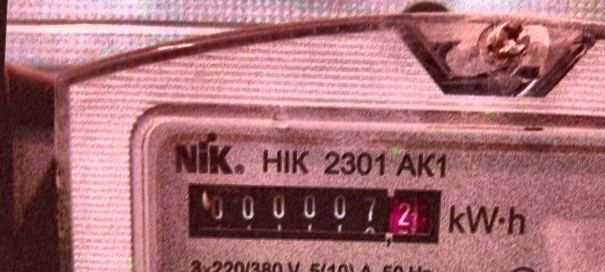0: (268, 192, 287, 220), (238, 192, 256, 221), (207, 193, 225, 221), (330, 192, 347, 220), (300, 191, 316, 219)
2: (394, 199, 412, 228)
7: (360, 194, 377, 224)
screen: (176, 170, 453, 254)
